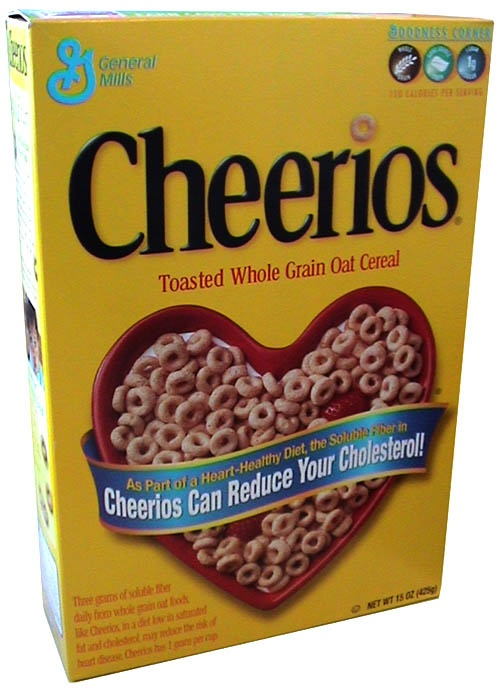grozi_4: (5, 8, 494, 683)
